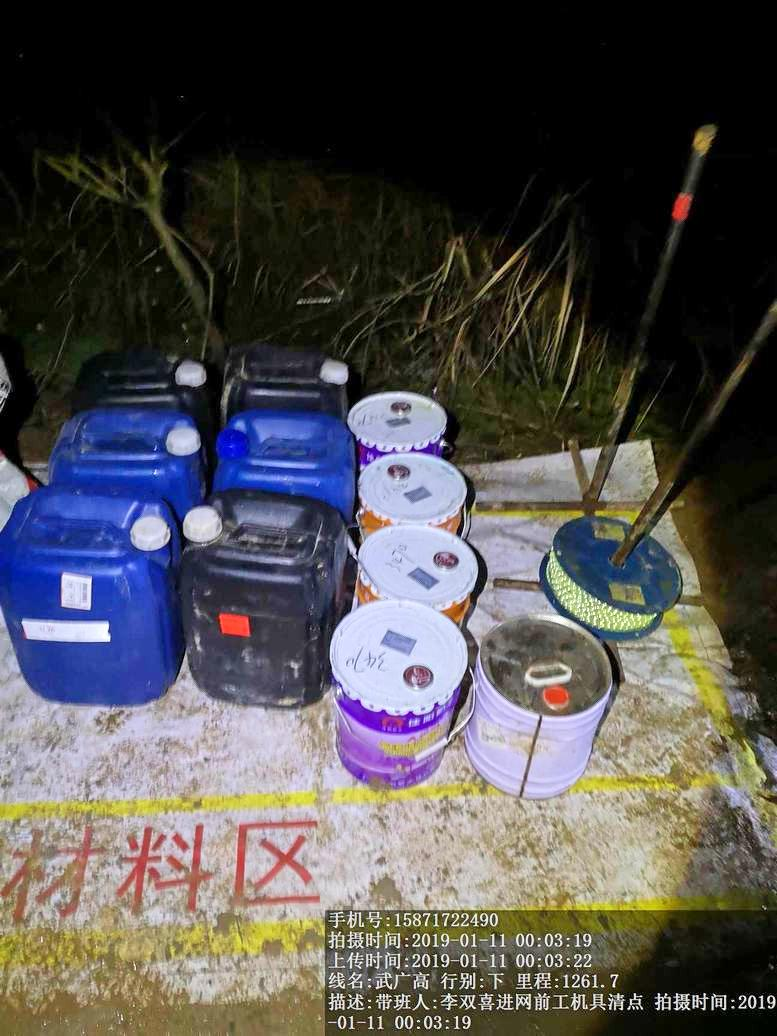SLT: (4, 486, 173, 710), (175, 487, 328, 724), (65, 307, 210, 408), (206, 396, 350, 495), (48, 405, 207, 488), (226, 335, 367, 403)
